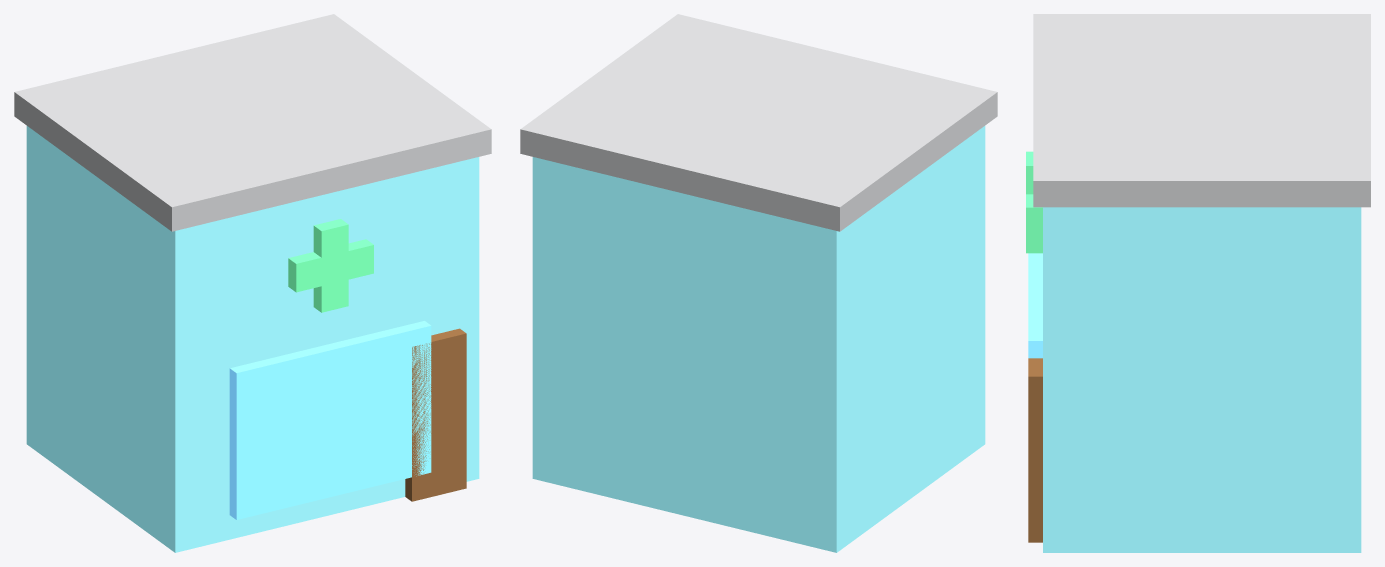
The model's file is pharmacy.glb.
3 views of the same model, side by side, from view 1: azimuth 30°, elevation 25°; view 2: azimuth 150°, elevation 25°; view 3: azimuth 270°, elevation 25° (orthographic). The views are drawn at different scales.
Visible parts, largest first — view 1: pharmacy; view 2: pharmacy; view 3: pharmacy.
Part boxes in pixels (x1,y1,x2,y2): pharmacy: (14, 14, 491, 552); pharmacy: (520, 14, 997, 552); pharmacy: (1026, 14, 1370, 552).
Size of the model in its own units: 0.82 by 0.86 by 0.715.
